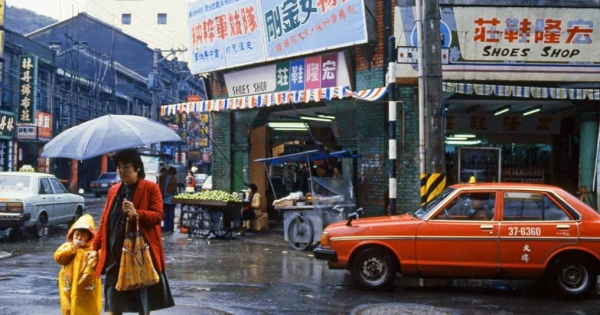people: (101, 149, 174, 315), (54, 212, 103, 315), (239, 182, 261, 229)
